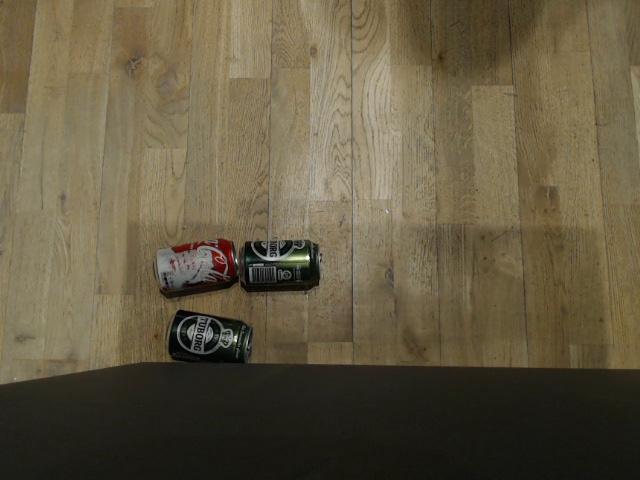beer: (239, 233, 327, 294), (160, 310, 255, 364)
cola: (135, 233, 228, 295)
